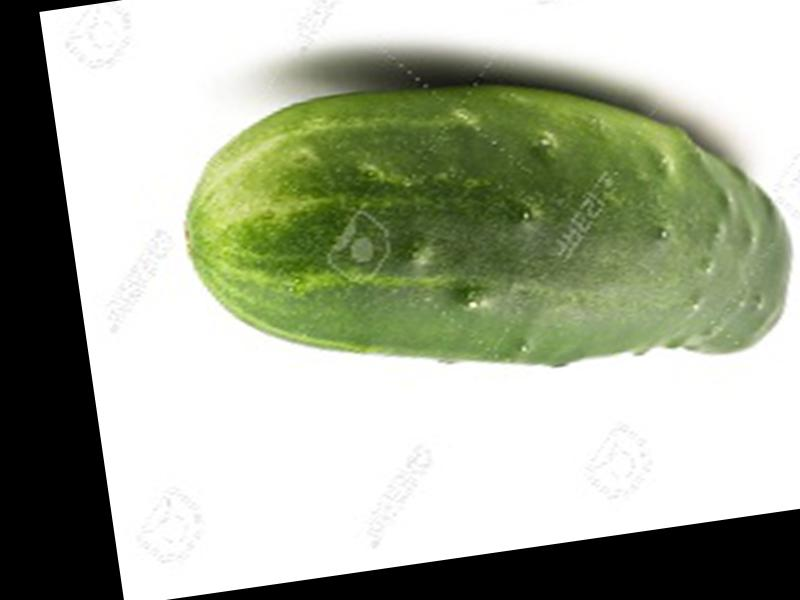Cucumber: (167, 30, 800, 427)
